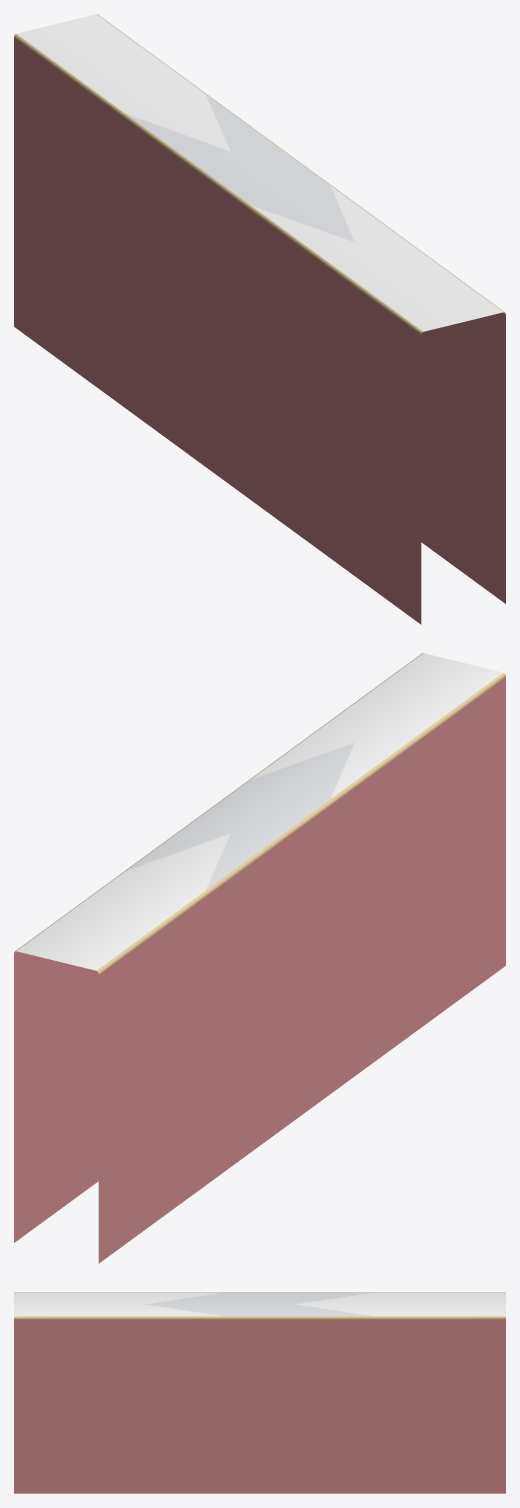
Rendered from M_road.fbx.
3 renders of one model, top to bottom at view 1: azimuth 30°, elevation 25°; view 2: azimuth 150°, elevation 25°; view 3: azimuth 270°, elevation 25°, orthographic. The views are drawn at different scales.
Parts seen in each view (by area): view 1: M_road_1; view 2: M_road_1; view 3: M_road_1.
Part boxes in pixels (x1,y1,x2,y2): M_road_1: (14, 14, 505, 624); M_road_1: (14, 653, 505, 1263); M_road_1: (14, 1292, 505, 1493).
Size of the model in its own units: 6 by 19.81 by 50.
3 materials, 1 textured.
